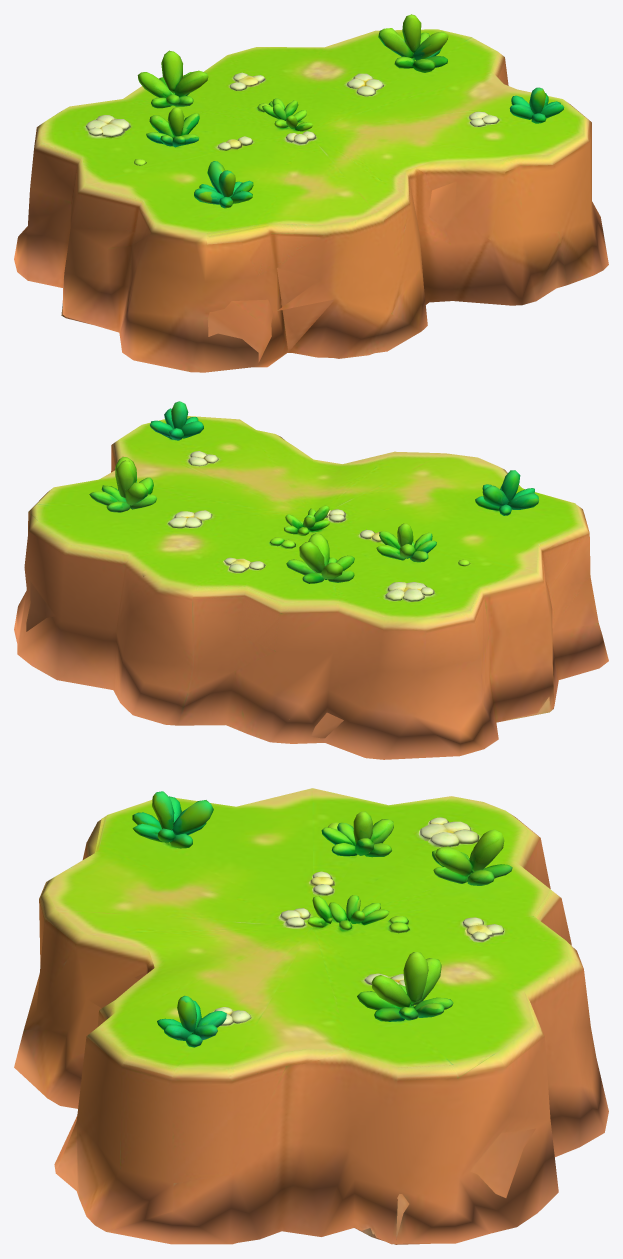
The model's file is r1c1_grass_platform.glb.
The picture shows the model from 3 angles, top to bottom: view 1: azimuth 30°, elevation 25°; view 2: azimuth 150°, elevation 25°; view 3: azimuth 270°, elevation 25°; orthographic projection. The views are drawn at different scales.
Size of the model in its own units: 1 by 0.3613 by 0.834.
1 material, 1 textured.
